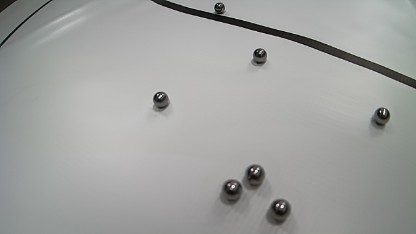ironball: (269, 198, 291, 221), (245, 164, 265, 186), (222, 179, 242, 201), (373, 107, 390, 125), (153, 91, 169, 108), (253, 48, 267, 64), (214, 2, 225, 14)
